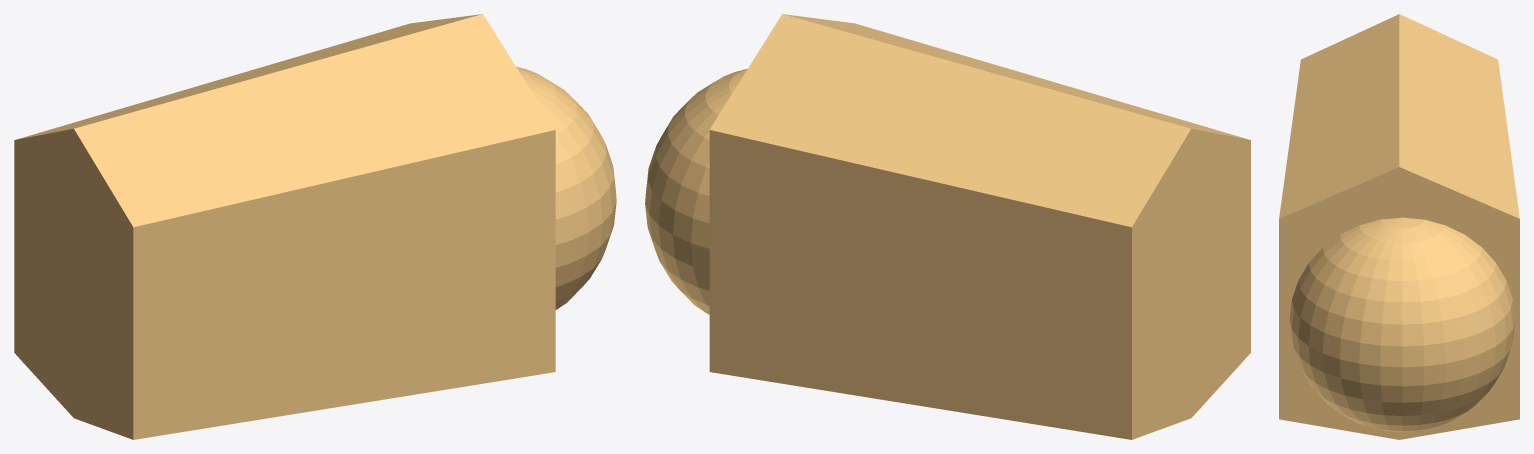
Rendered from R_finger0_0.obj.
3 renders of one model, left to right at view 1: azimuth 30°, elevation 25°; view 2: azimuth 150°, elevation 25°; view 3: azimuth 270°, elevation 25°, orthographic. The views are drawn at different scales.
Parts seen in each view (by area): view 1: finger0_0球.001_球.028; view 2: finger0_0球.001_球.028; view 3: finger0_0球.001_球.028.
Part boxes in pixels (x1=…): finger0_0球.001_球.028: x1=14, y1=14, x2=616, y2=439; finger0_0球.001_球.028: x1=645, y1=14, x2=1250, y2=439; finger0_0球.001_球.028: x1=1279, y1=14, x2=1519, y2=439.
Size of the model in its own units: 0.9148 by 0.5472 by 0.4376.
1 material, 1 textured.
